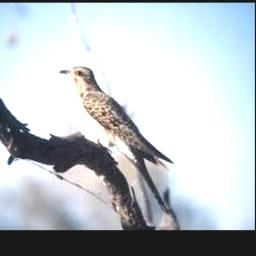Cuckoo: (60, 66, 174, 213)
